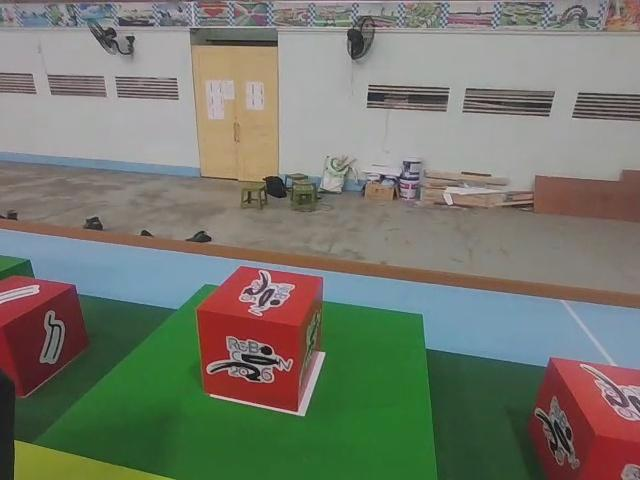R1: (195, 262, 326, 415), (524, 353, 640, 480)
R2 Real: (0, 272, 95, 399)
